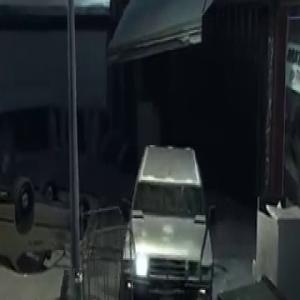fatal: (0, 148, 88, 278)
